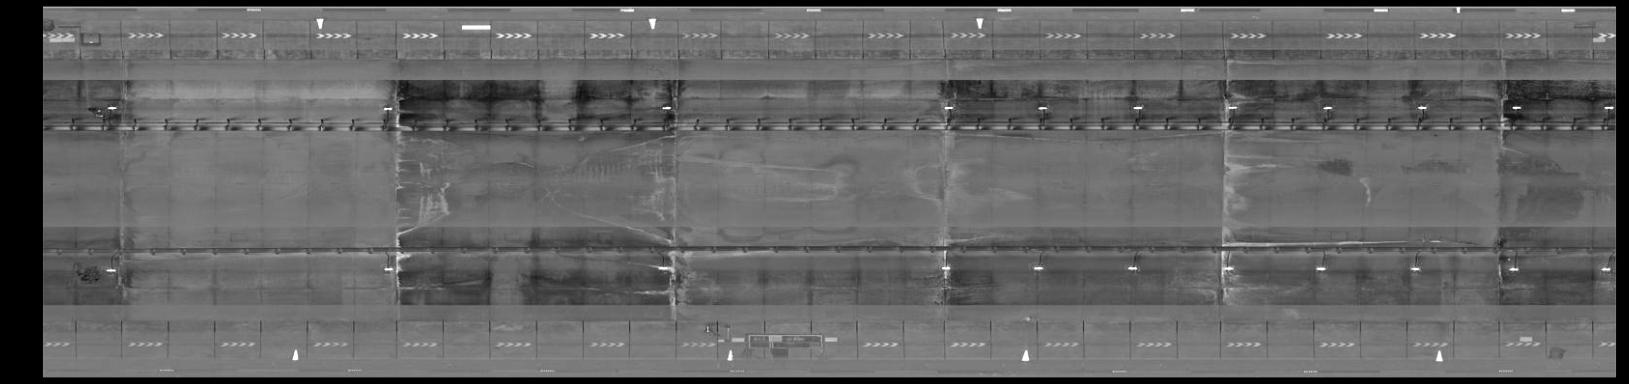light: (1404, 263, 1423, 276), (1029, 262, 1048, 275), (1035, 100, 1053, 113), (935, 263, 958, 273), (649, 263, 672, 273), (377, 264, 398, 275), (1501, 265, 1522, 275), (1409, 102, 1430, 112), (1596, 263, 1612, 275), (1222, 103, 1241, 113), (1218, 264, 1237, 274), (1506, 103, 1525, 113), (101, 266, 119, 276), (1316, 103, 1336, 112), (379, 104, 397, 114), (103, 102, 121, 112), (1124, 263, 1141, 273), (658, 102, 672, 113), (1128, 103, 1146, 112), (939, 103, 957, 112), (1311, 265, 1330, 273), (1601, 102, 1615, 112)
